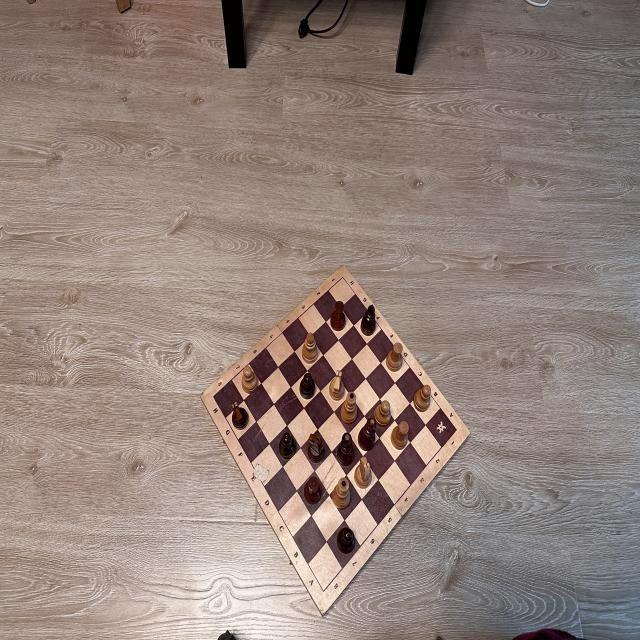chess-table-corners: (321, 588, 326, 596), (212, 394, 216, 399), (342, 274, 344, 280), (455, 428, 458, 432)
